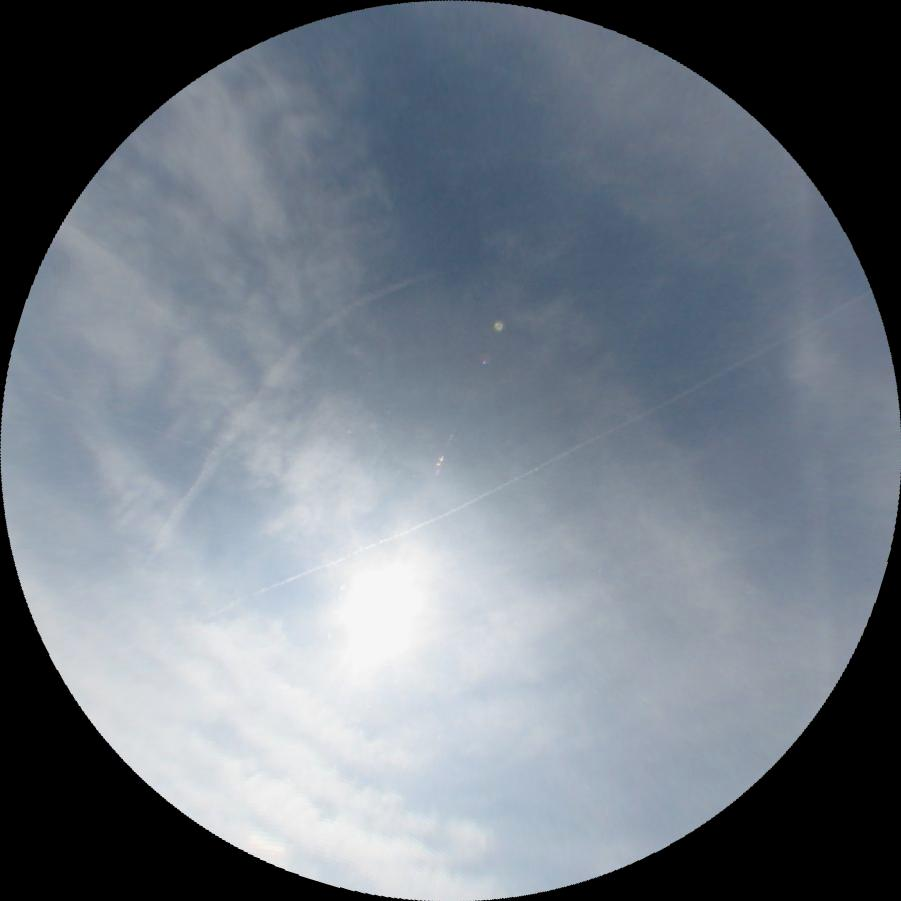contrail old: (124, 234, 445, 544)
contrail veryold: (777, 155, 853, 696)
contrail young: (199, 286, 878, 631)
sun: (328, 558, 434, 669)
